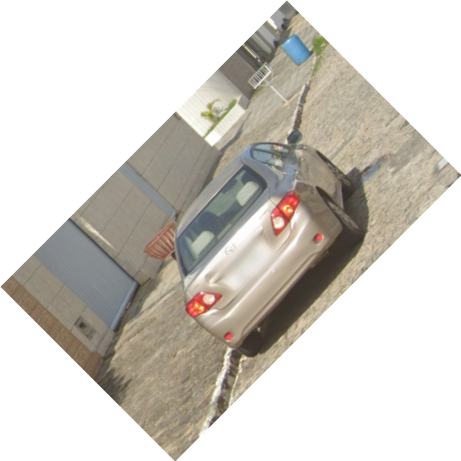car: (162, 128, 370, 363)
